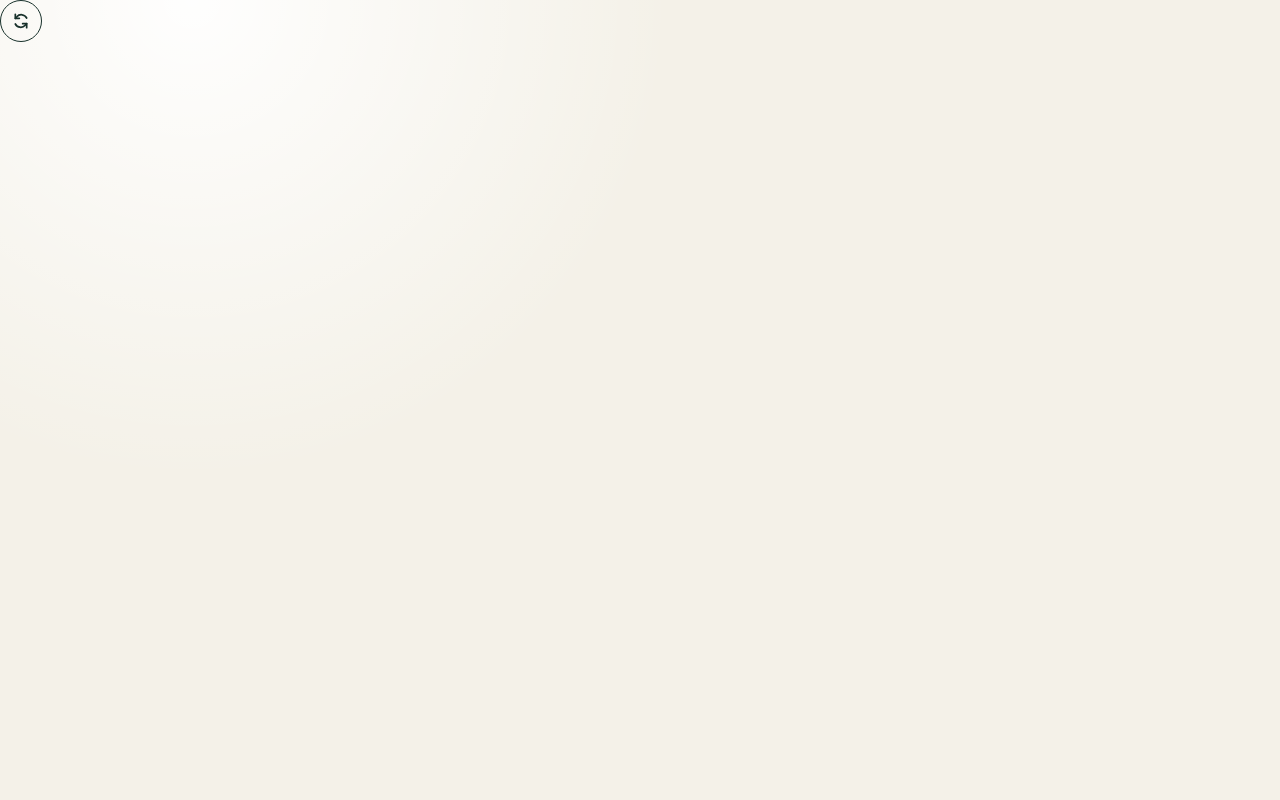
Test: SyncPanel: entry and local validation › shows loading instead of authentication forms while restoring a session
Step 1. Click the button named "登录与数据同步" → (21, 21), box [0,0,42,42]
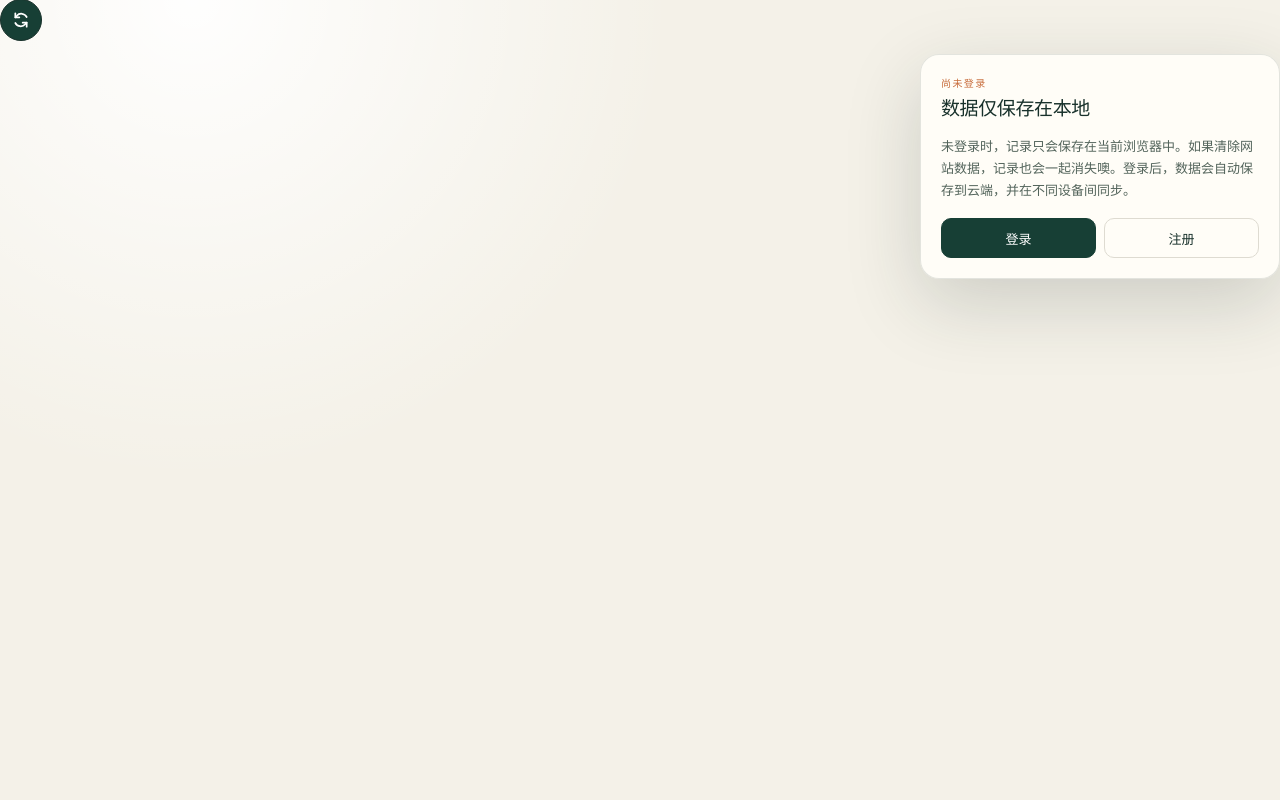
Result: the text "正在读取登录状态…" is shown at [941,76,1090,121]
Result: the button "注册" is shown at [1104,218,1259,258]
